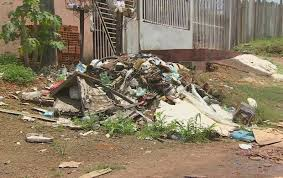rubble: (53, 49, 207, 130)
